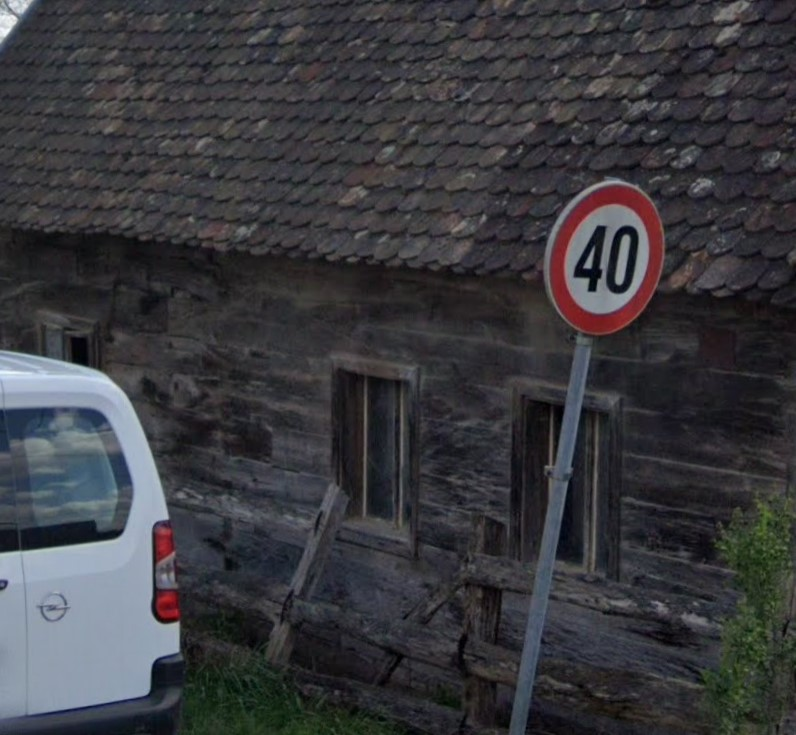Ograničenje brzine 40: (545, 178, 665, 336)
